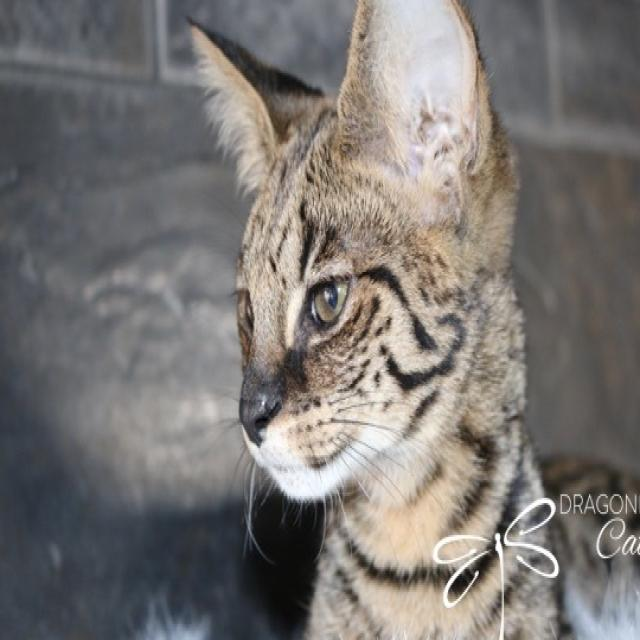Savannah: (180, 0, 587, 640)
